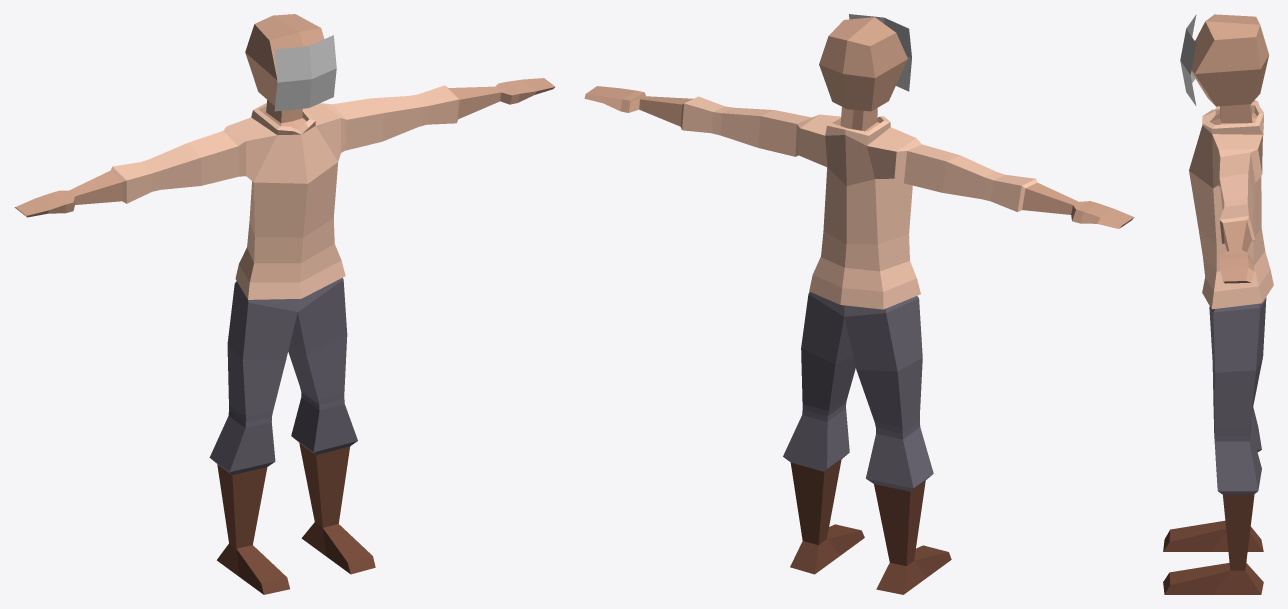
File: NPC 2.fbx
The picture shows the model from 3 angles, left to right: view 1: azimuth 30°, elevation 25°; view 2: azimuth 150°, elevation 25°; view 3: azimuth 270°, elevation 25°; orthographic projection. The views are drawn at different scales.
Visible parts, largest first — view 1: npc base, npc cara; view 2: npc base, npc cara; view 3: npc base, npc cara.
Part boxes in pixels (left/top/right/bottom): npc base: left=14, top=14, right=555, bottom=594; npc cara: left=274, top=35, right=336, bottom=111; npc base: left=584, top=17, right=1134, bottom=594; npc cara: left=849, top=14, right=911, bottom=91; npc base: left=1163, top=14, right=1273, bottom=594; npc cara: left=1180, top=14, right=1196, bottom=105.
Bounding box in the file's own units: 972 × 939 × 173.
